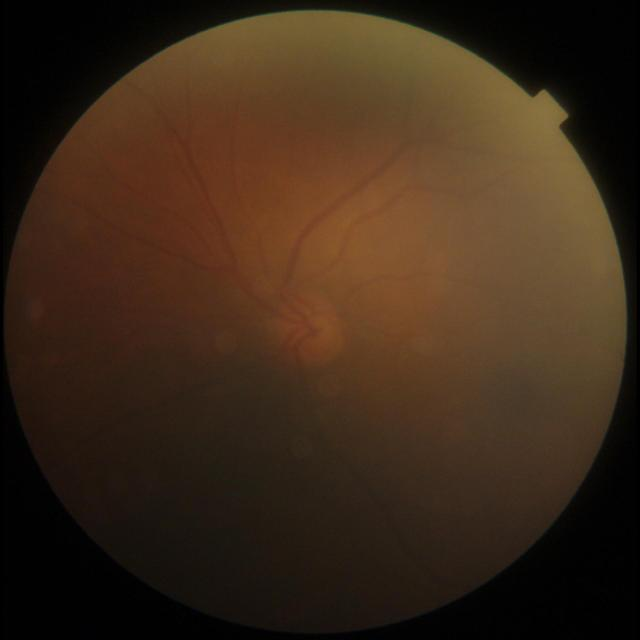OD: (274, 293, 342, 366)
